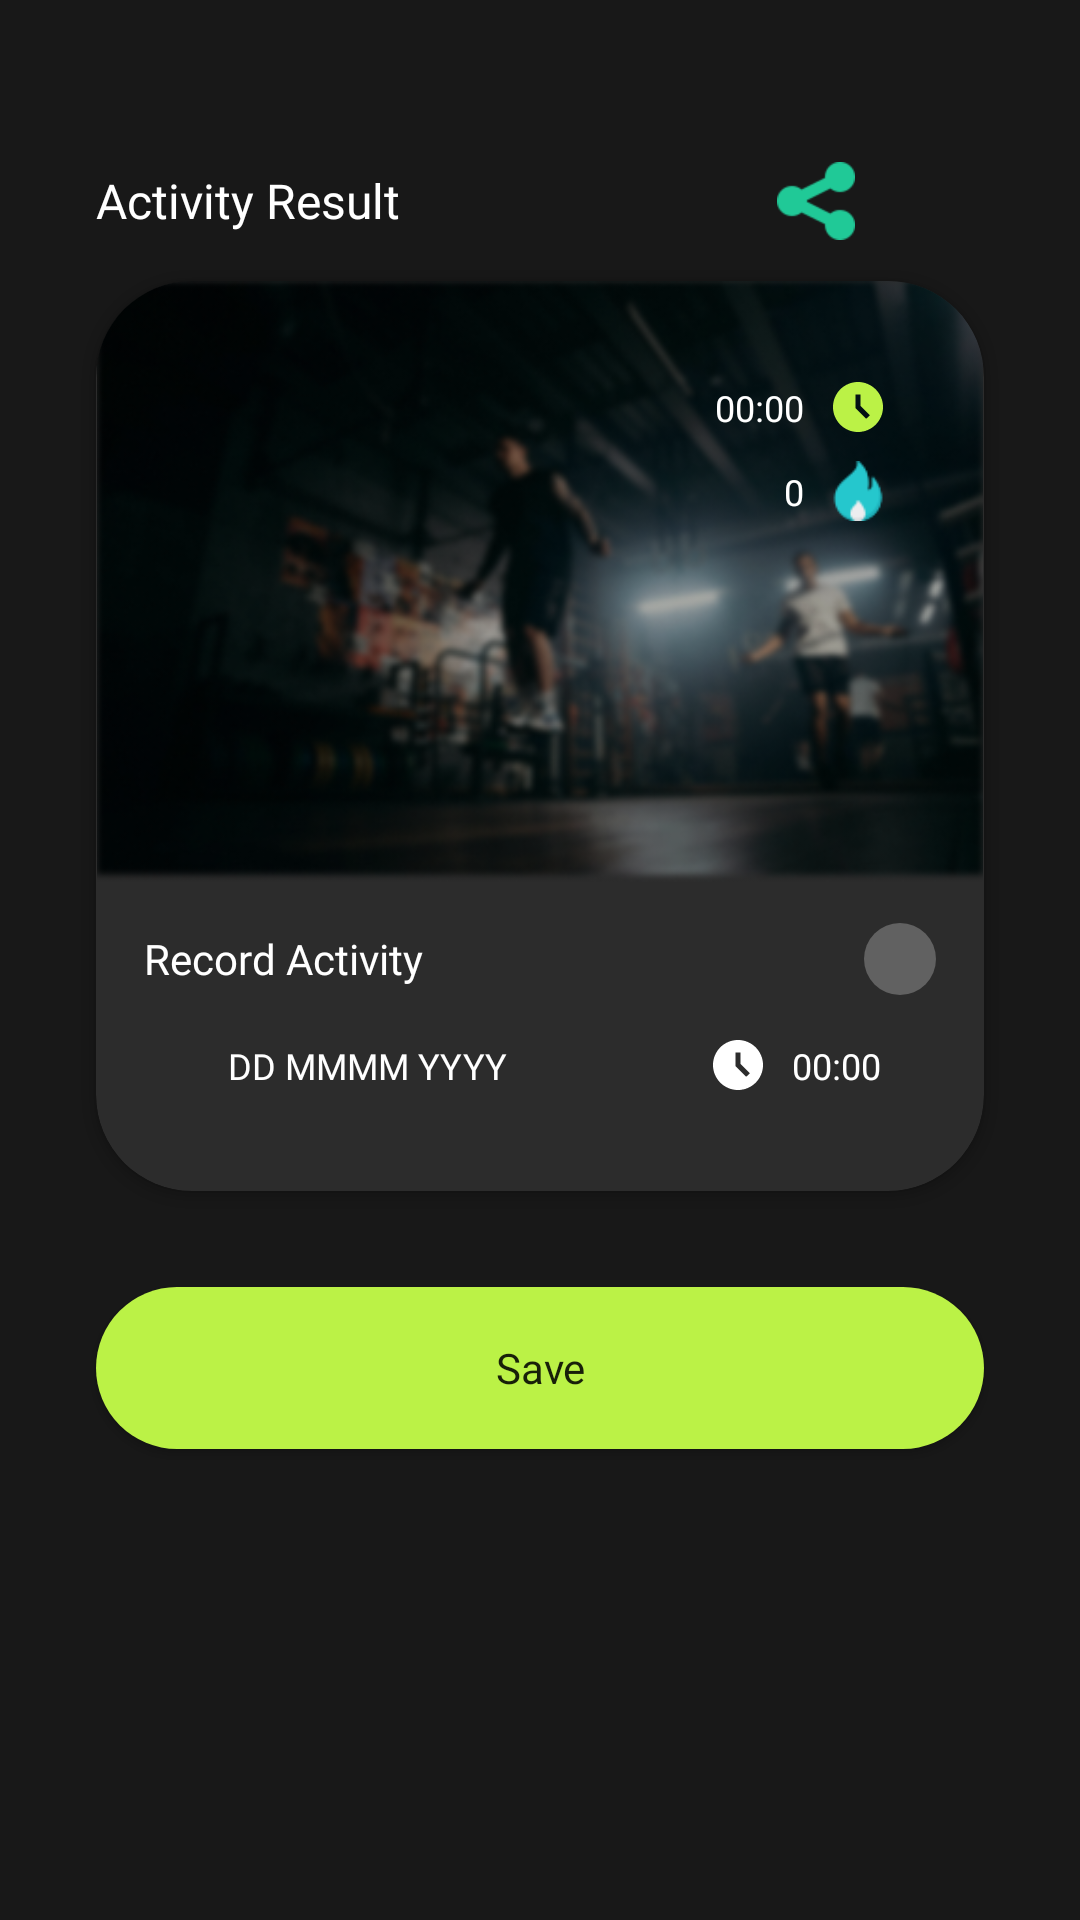

Icon click points for this 1080*1920 phone screenshot, format point (x, y):
calorie icon: point (858, 491)
Share Icon: point (816, 201)
